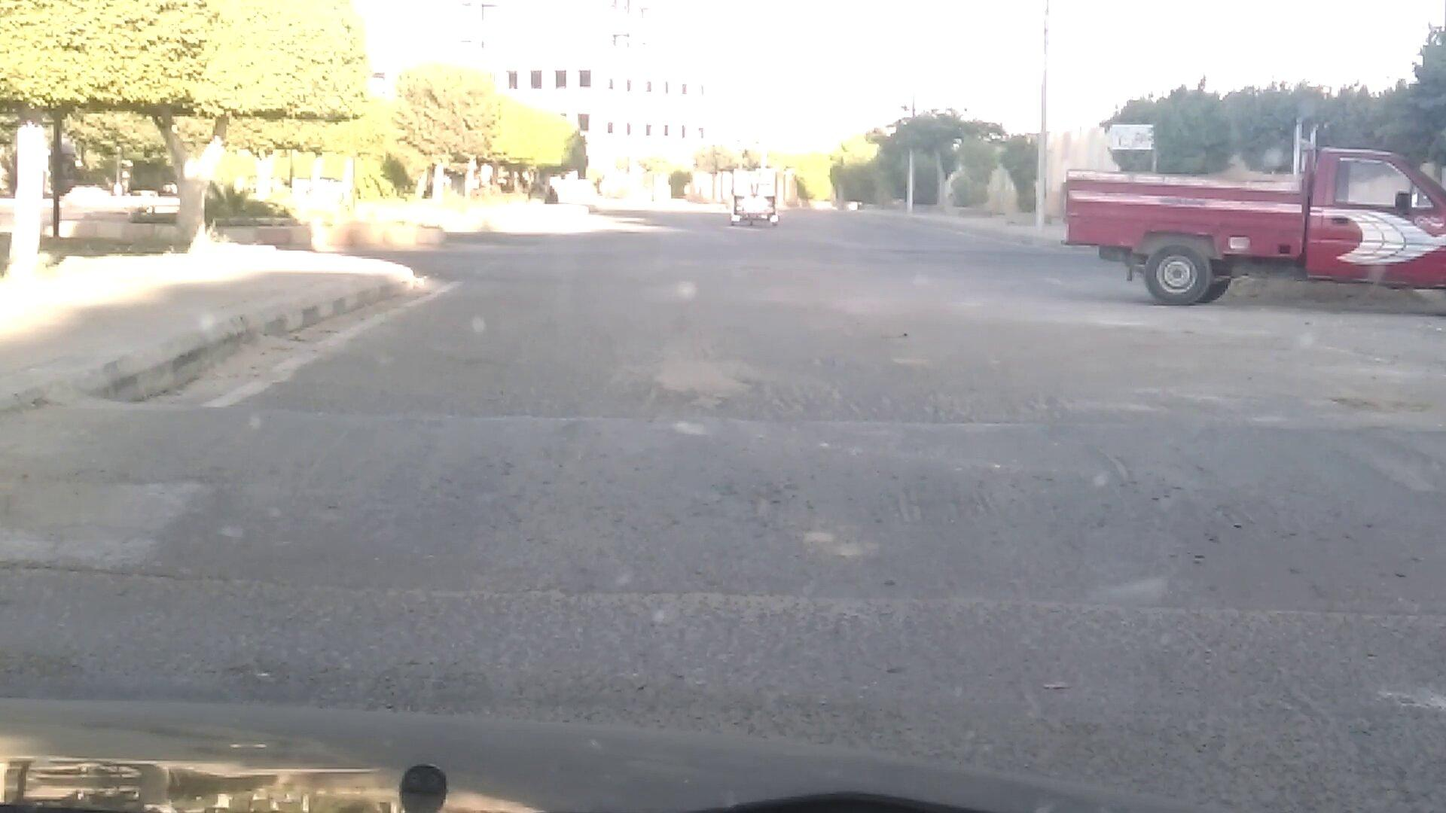Bump: (122, 388, 1446, 606)
